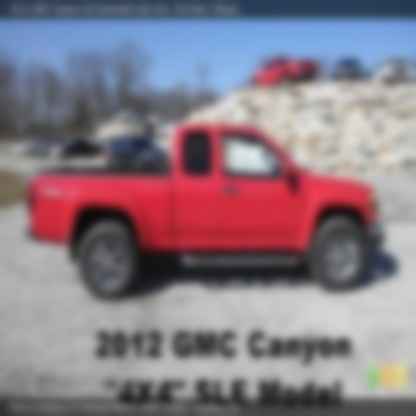Vehicle: (23, 124, 386, 302)
